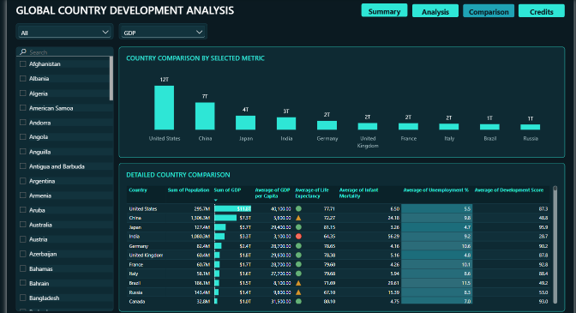

The page's visual inventory and layout, read from the dashboard file:
{"tool":"powerbi","page":{"name":"Comparison","canvas":[1280,720],"ordinal":2},"visuals":[{"type":"textbox","box":[20,8,510.8,39.9],"z":0},{"type":"actionButton","box":[800,10,105,30],"z":1000},{"type":"actionButton","box":[1030,10.9,116.2,30.3],"z":2000},{"type":"actionButton","box":[915,10.9,105,30],"z":3000},{"type":"actionButton","box":[1154.5,10.9,105,30],"z":4000},{"type":"slicer","fields":{"Values":["Countries.Income Group"]},"box":[20.6,54.5,220.3,36.3],"z":5000},{"type":"slicer","fields":{"Values":["Countries.Country"]},"box":[20,108,220,597],"z":6000},{"type":"slicer","fields":{"Values":["Metric Choice.Metric"]},"box":[253,54.5,200,36],"z":7000},{"type":"clusteredColumnChart","title":"COUNTRY COMPARISON BY SELECTED METRIC","fields":{"Category":["Countries.Country"],"Y":["_Measures.Selected Metric Value"]},"box":[253,108,1007,250],"z":8000},{"type":"tableEx","title":"DETAILED COUNTRY COMPARISON","fields":{"Values":["Countries.Country","Sum(Countries.Population)","Sum(Countries.GDP)","Countries.GDP per Capita","Countries.Life Expectancy","Avg(Countries.Infant Mortality)","Avg(Countries.Unemployment %)","Avg(Countries.Development Score)"]},"box":[253,370,1007,335],"z":9000}]}

Visuals, with their boxes on the page's 1280x720 design canvas (x1, y1, x2, y2). These are canvas units, not pixel positions in the 576x313 screenshot, which may show the page scaled, cropped or inside an application window:
textbox: (20,8,531,48)
actionButton: (800,10,905,40)
actionButton: (1030,11,1146,41)
actionButton: (915,11,1020,41)
actionButton: (1154,11,1260,41)
slicer - Countries.Income Group: (21,54,241,91)
slicer - Countries.Country: (20,108,240,705)
slicer - Metric Choice.Metric: (253,54,453,90)
"COUNTRY COMPARISON BY SELECTED METRIC" clusteredColumnChart: (253,108,1260,358)
"DETAILED COUNTRY COMPARISON" tableEx: (253,370,1260,705)
